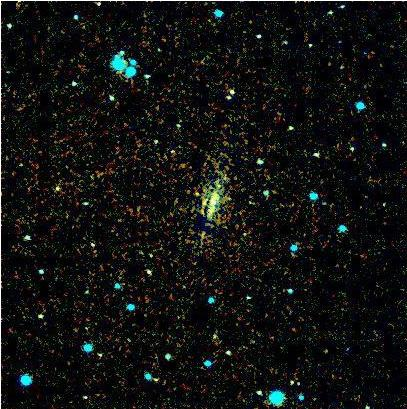star: (182, 176, 212, 206)
